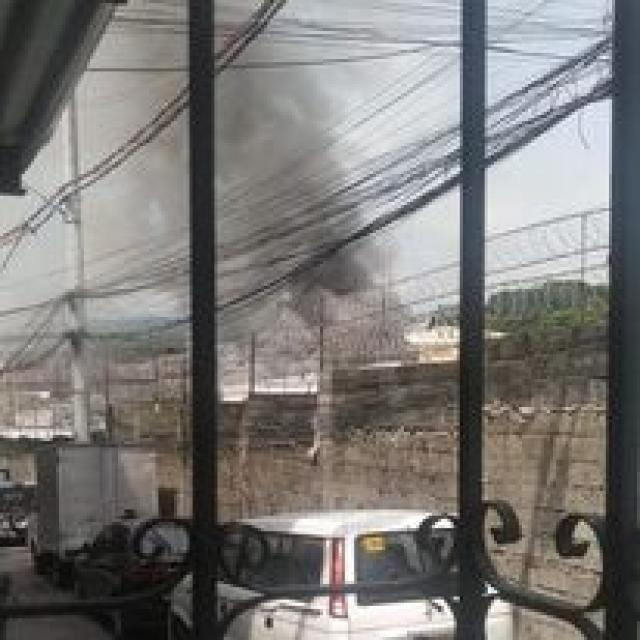Smoke: (130, 9, 398, 314)
